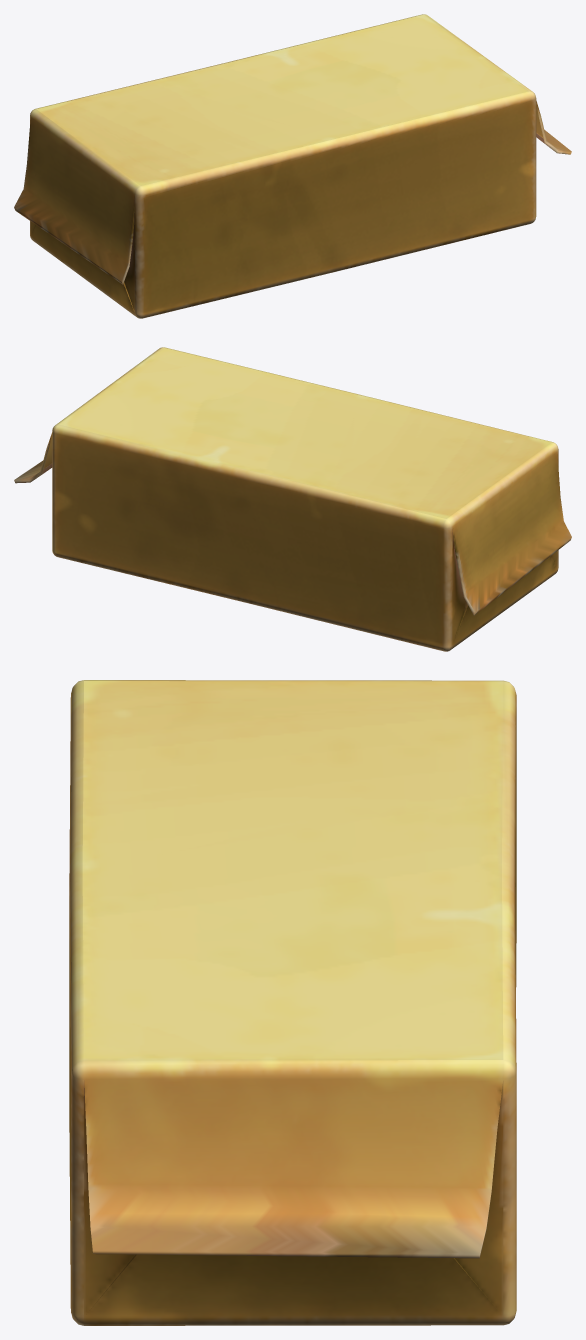
File: SM_BreakfastProps_Butter.fbx
3 renders of one model, top to bottom at view 1: azimuth 30°, elevation 25°; view 2: azimuth 150°, elevation 25°; view 3: azimuth 270°, elevation 25°, orthographic. The views are drawn at different scales.
Parts seen in each view (by area): view 1: SM_BreakfastProps_Butter_LOD0; view 2: SM_BreakfastProps_Butter_LOD0; view 3: SM_BreakfastProps_Butter_LOD0.
Part boxes in pixels (box(x1,y1,x2,y2)): SM_BreakfastProps_Butter_LOD0: box(14, 14, 571, 318); SM_BreakfastProps_Butter_LOD0: box(14, 347, 571, 651); SM_BreakfastProps_Butter_LOD0: box(69, 680, 516, 1325).
Bounding box in the file's own units: 22.2 × 9.26 × 6.04.
1 material, 1 textured.
